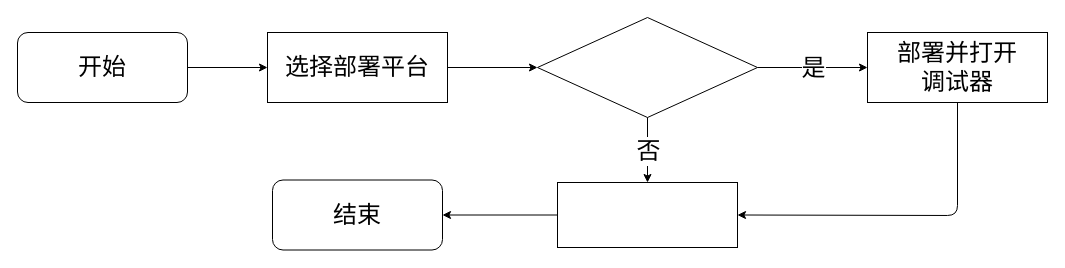
Image size: 1065x268. Some labels were removed from this diagram. Each missing label, with the box of its shape:
是否需要 调试？: (536, 16, 758, 118)
运行项目: (556, 182, 738, 248)
